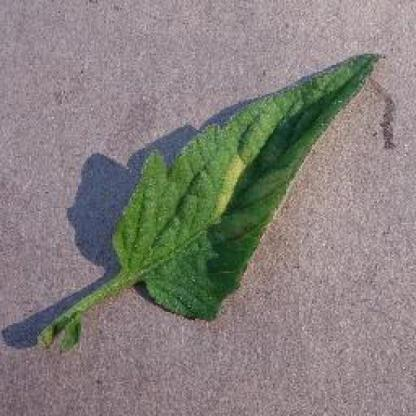Tomato_Leaf_Mold: (119, 54, 380, 277)
